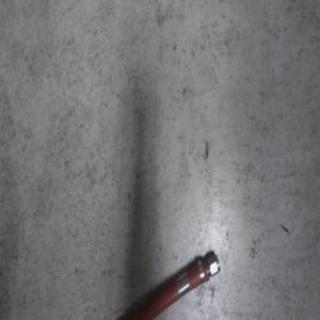Hosetrack_idkeyframe: (98, 247, 222, 319)
